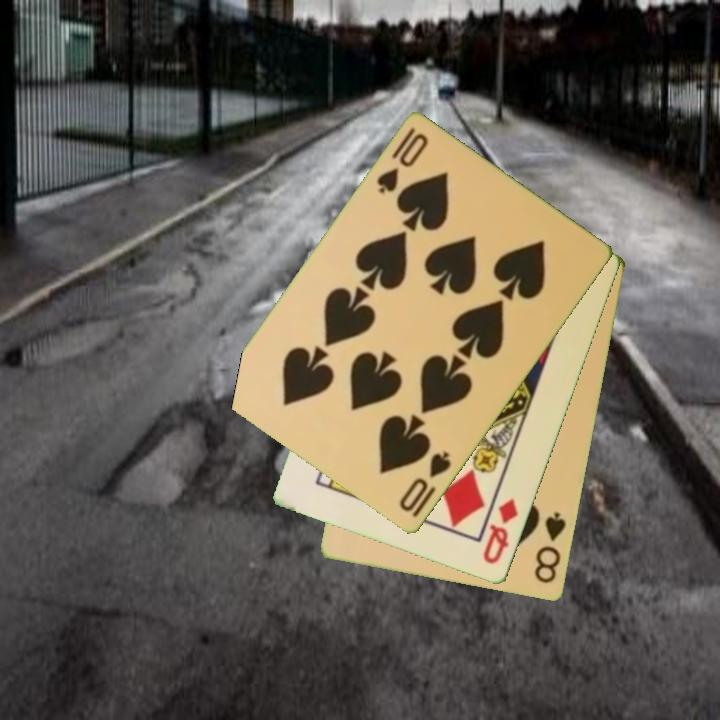10s: (373, 124, 432, 197), (395, 448, 455, 516)
8s: (531, 509, 570, 587)
Qd: (479, 495, 522, 568)
